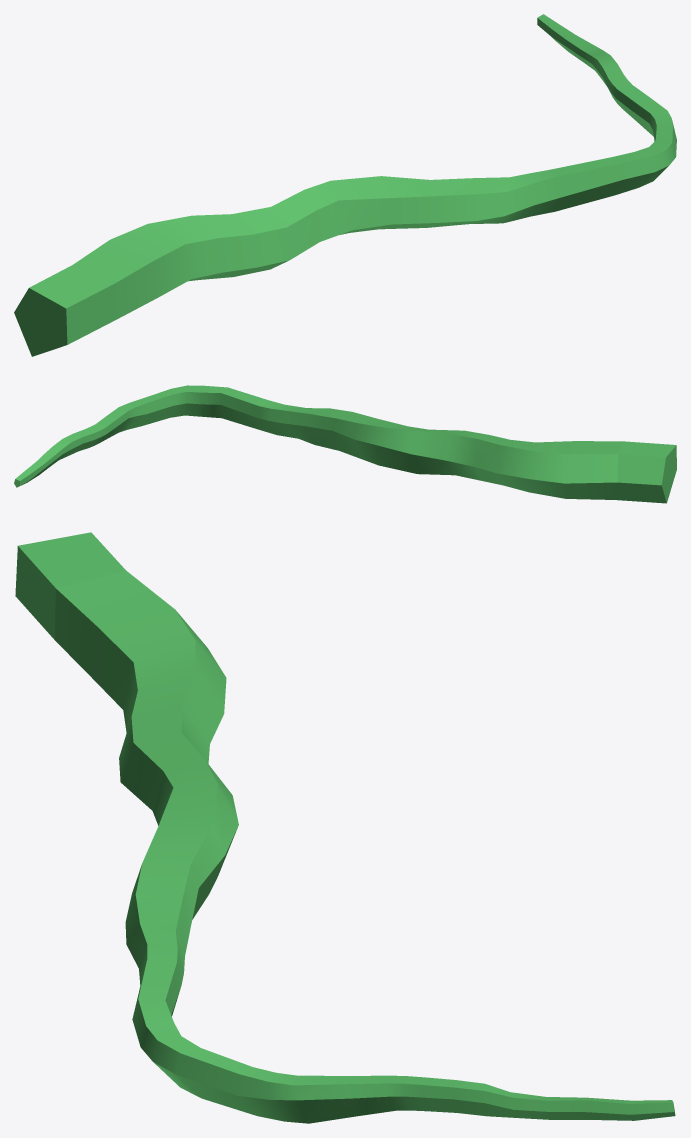
File: roots_solo_A_F.fbx
3 views of the same model, one above another, from view 1: azimuth 30°, elevation 25°; view 2: azimuth 150°, elevation 25°; view 3: azimuth 270°, elevation 25° (orthographic). The views are drawn at different scales.
Parts seen in each view (by area): view 1: roots_solo_A_F; view 2: roots_solo_A_F; view 3: roots_solo_A_F.
Part boxes in pixels (x1,y1,x2,y2): roots_solo_A_F: [14, 14, 676, 356]; roots_solo_A_F: [14, 385, 676, 503]; roots_solo_A_F: [15, 532, 675, 1123].
Bounding box in the file's own units: 263 × 27.62 × 147.
